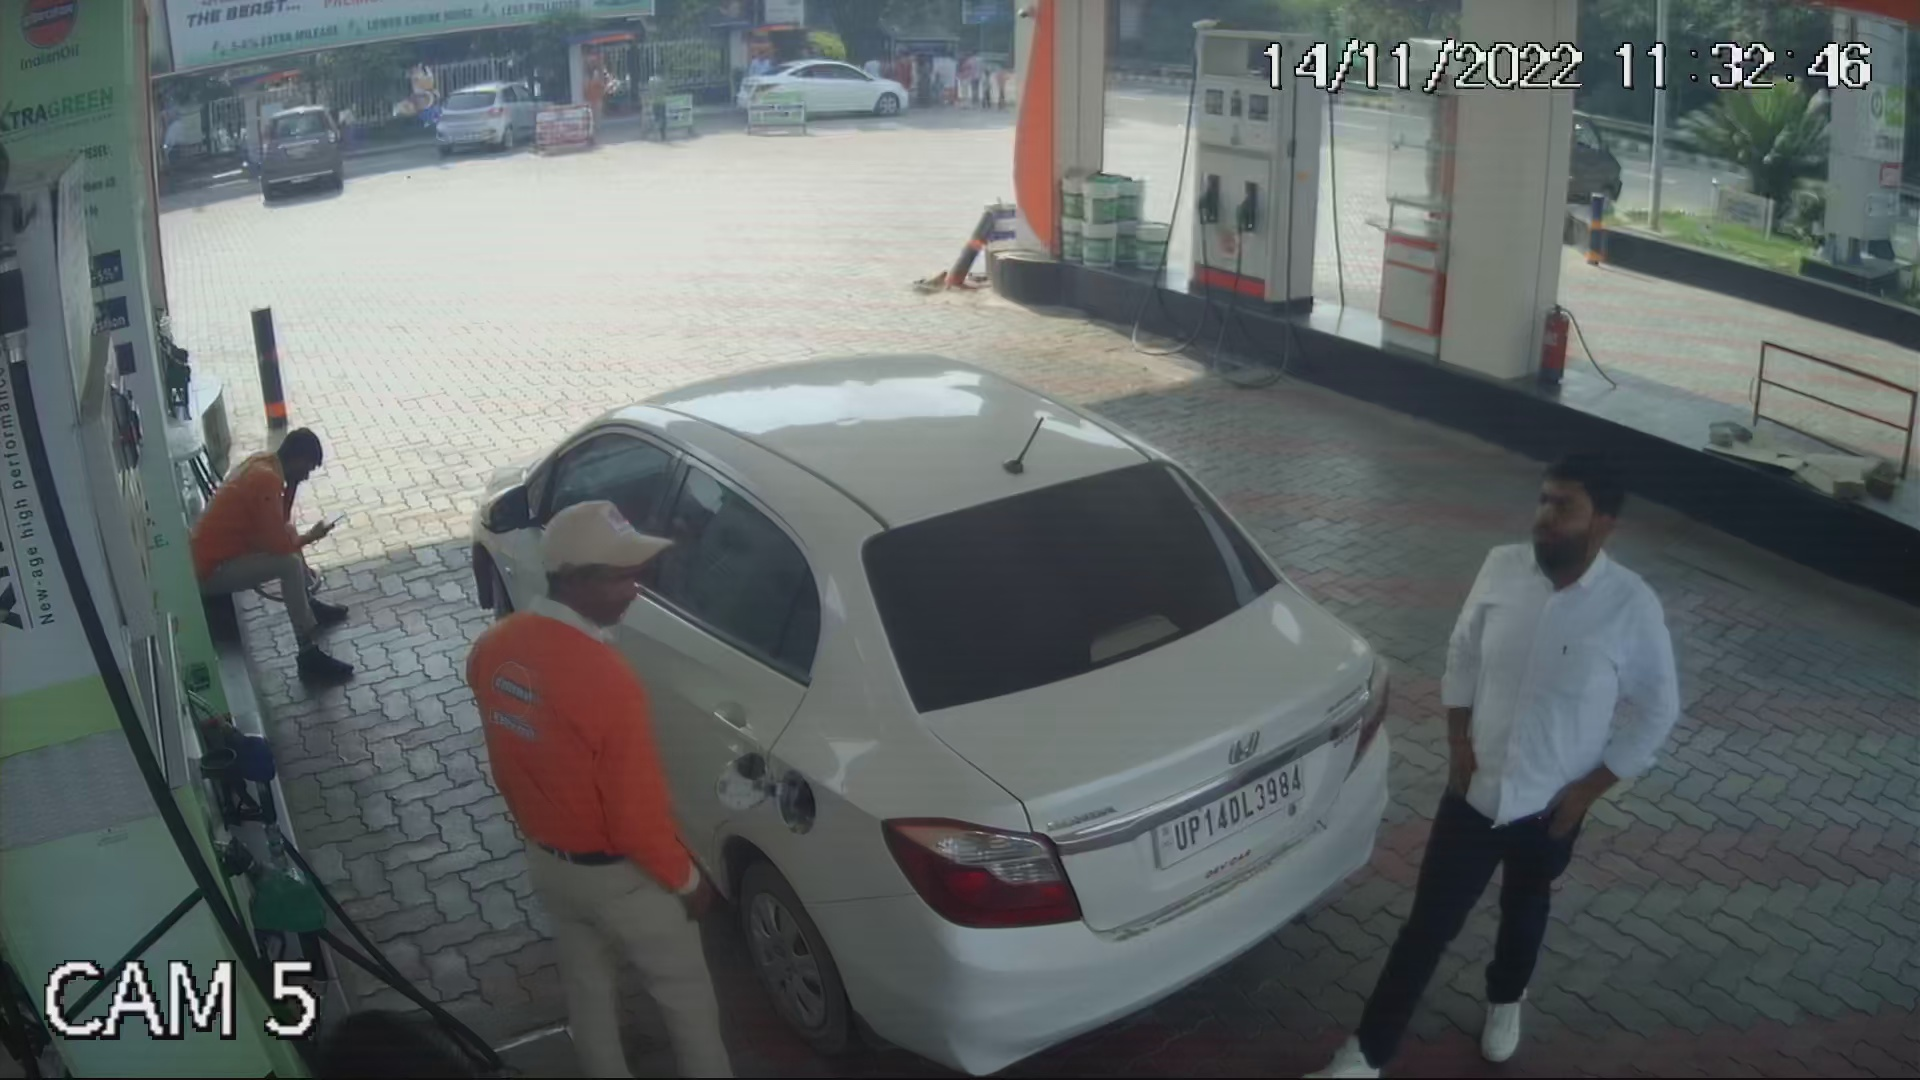Car: (468, 347, 1400, 1073), (735, 34, 914, 138), (421, 59, 579, 167), (243, 87, 360, 206), (1568, 104, 1627, 215)
Others: (464, 491, 750, 1077), (190, 429, 357, 694)
